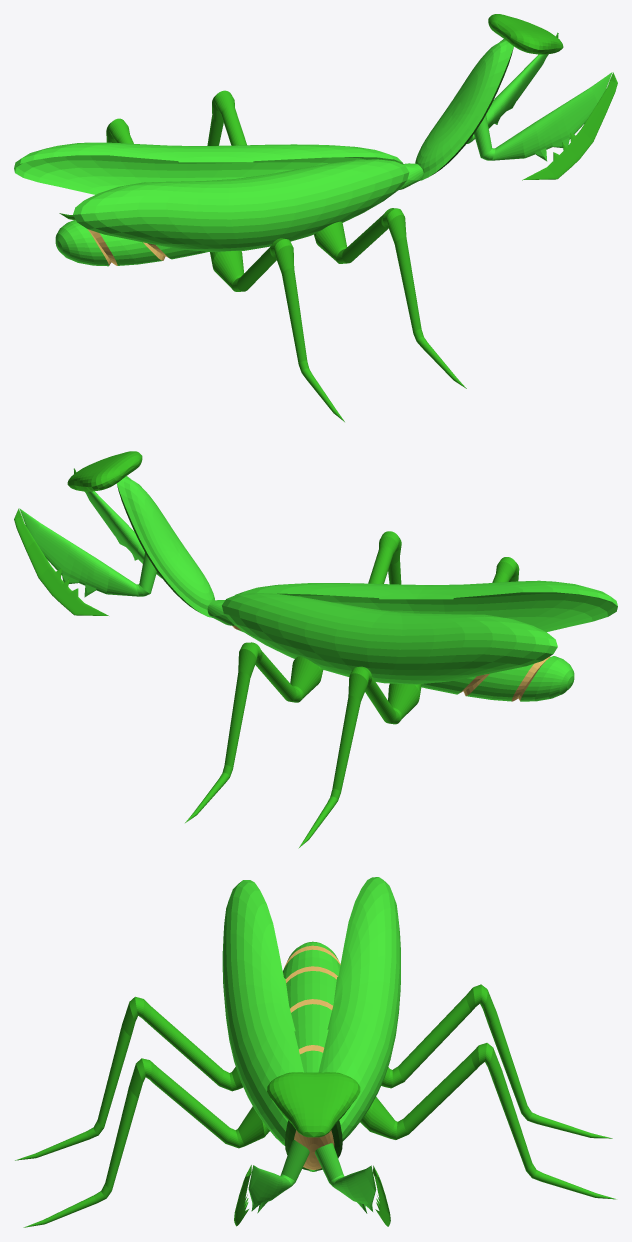
The model's file is Mantis.fbx.
3 renders of one model, top to bottom at view 1: azimuth 30°, elevation 25°; view 2: azimuth 150°, elevation 25°; view 3: azimuth 270°, elevation 25°, orthographic. The views are drawn at different scales.
Parts seen in each view (by area): view 1: RWing, Torso, LWing, BRLeg, FRLeg, Thorax, RClaw, FLLeg, BLLeg.001; view 2: LWing, Torso, RWing, Thorax, FLLeg, BLLeg.001, LClaw, FRLeg, BRLeg; view 3: LWing, RWing, Torso, Thorax, FLLeg, FRLeg, BRLeg, BLLeg.001, RClaw.
Boxes of the visible parts, x1=… form: RWing: x1=73, y1=159, x2=409, y2=252; Torso: x1=415, y1=14, x2=612, y2=180; LWing: x1=14, y1=142, x2=403, y2=194; BRLeg: x1=210, y1=238, x2=344, y2=421; FRLeg: x1=314, y1=208, x2=466, y2=388; Thorax: x1=55, y1=163, x2=423, y2=266; RClaw: x1=522, y1=72, x2=617, y2=180; FLLeg: x1=207, y1=90, x2=246, y2=145; BLLeg.001: x1=59, y1=118, x2=133, y2=219; LWing: x1=222, y1=592, x2=557, y2=684; Torso: x1=19, y1=451, x2=214, y2=617; RWing: x1=235, y1=580, x2=617, y2=632; Thorax: x1=207, y1=600, x2=574, y2=701; FLLeg: x1=185, y1=642, x2=323, y2=822; BLLeg.001: x1=298, y1=666, x2=421, y2=848; LClaw: x1=14, y1=508, x2=108, y2=615; FRLeg: x1=368, y1=531, x2=401, y2=584; BRLeg: x1=492, y1=557, x2=519, y2=582; LWing: x1=318, y1=877, x2=400, y2=1141; RWing: x1=222, y1=880, x2=303, y2=1145; Torso: x1=248, y1=1072, x2=376, y2=1213; Thorax: x1=283, y1=941, x2=340, y2=1171; FLLeg: x1=360, y1=1043, x2=616, y2=1199; FRLeg: x1=23, y1=1058, x2=269, y2=1227; BRLeg: x1=15, y1=996, x2=243, y2=1160; BLLeg.001: x1=381, y1=984, x2=612, y2=1138; RClaw: x1=234, y1=1165, x2=251, y2=1226.
Size of the model in its own units: 1757 by 694 by 1535.
